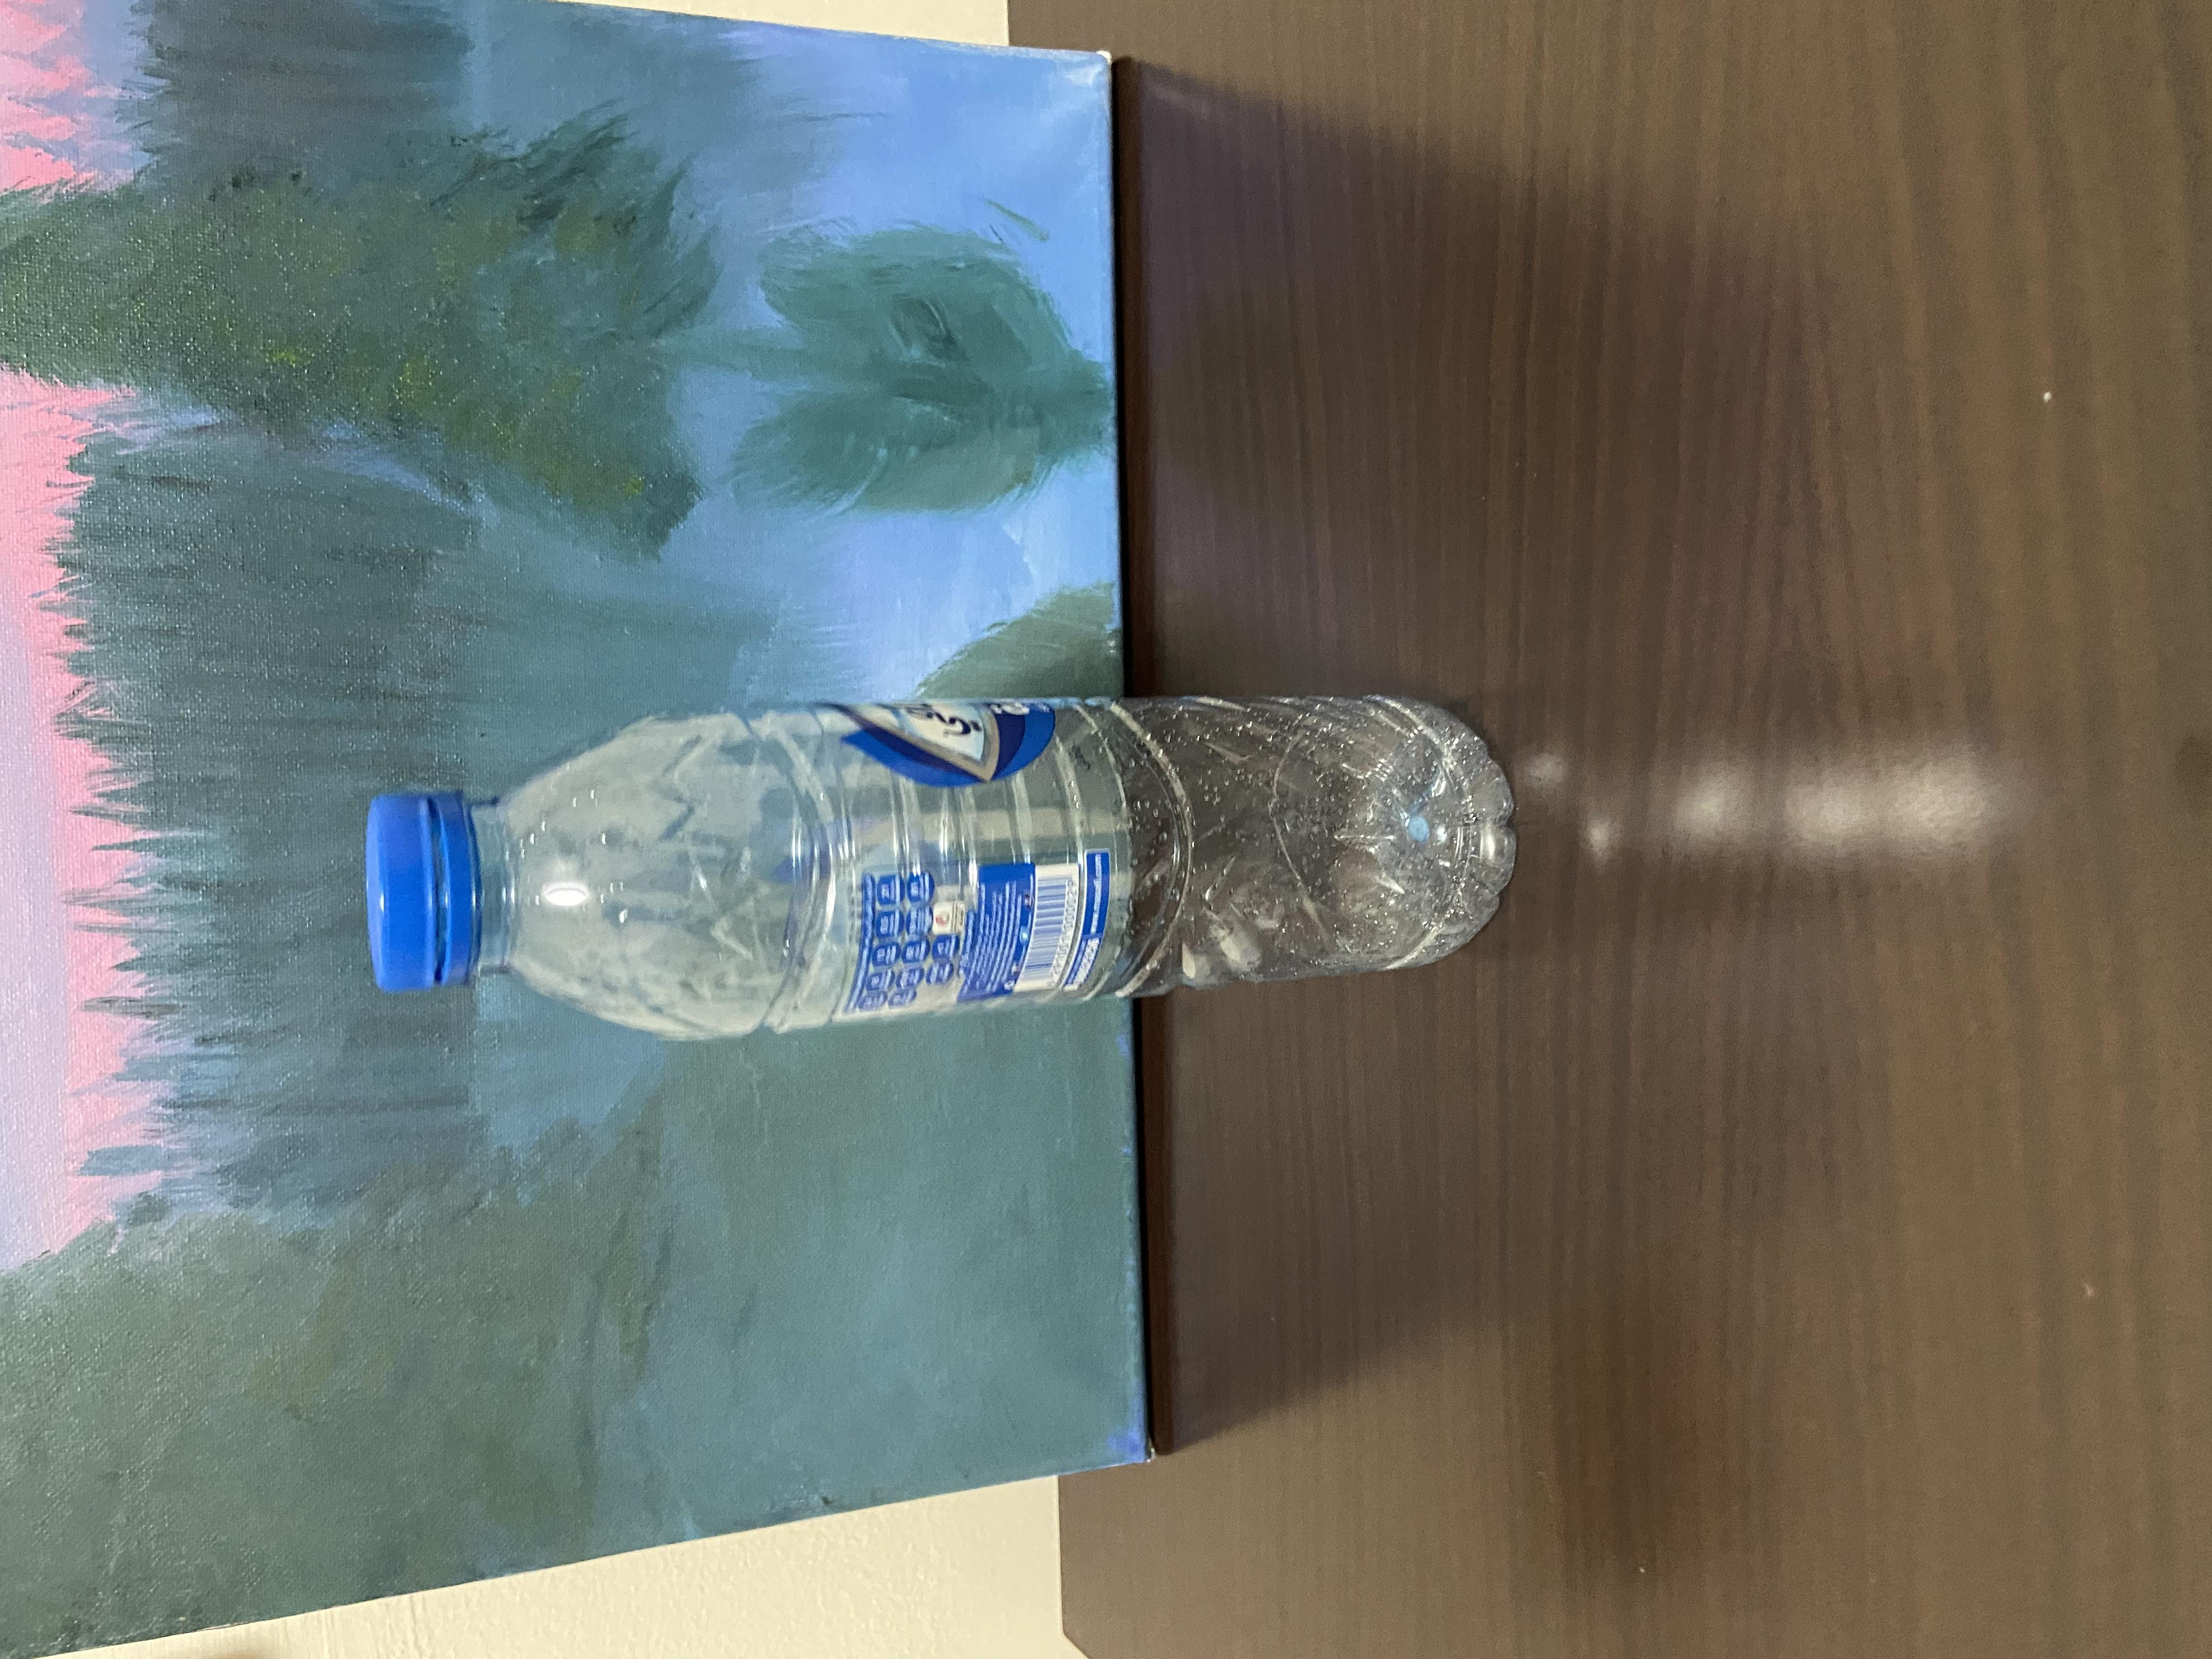bottle: (815, 263, 1317, 1148)
